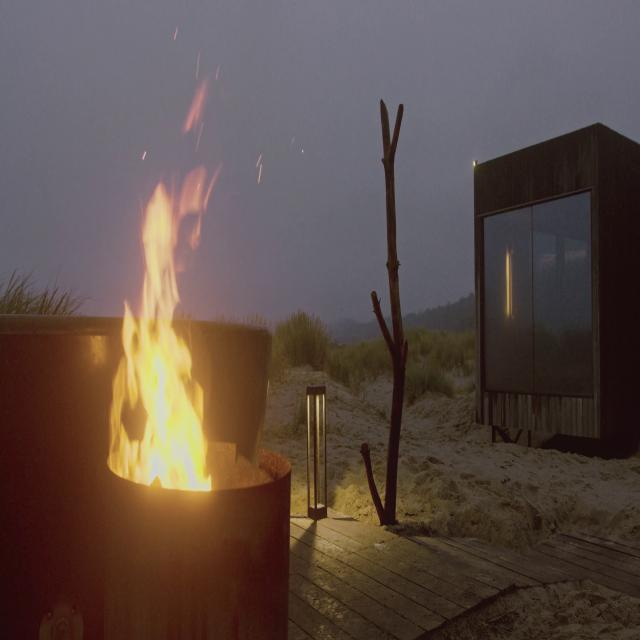Fire: (104, 170, 216, 495)
